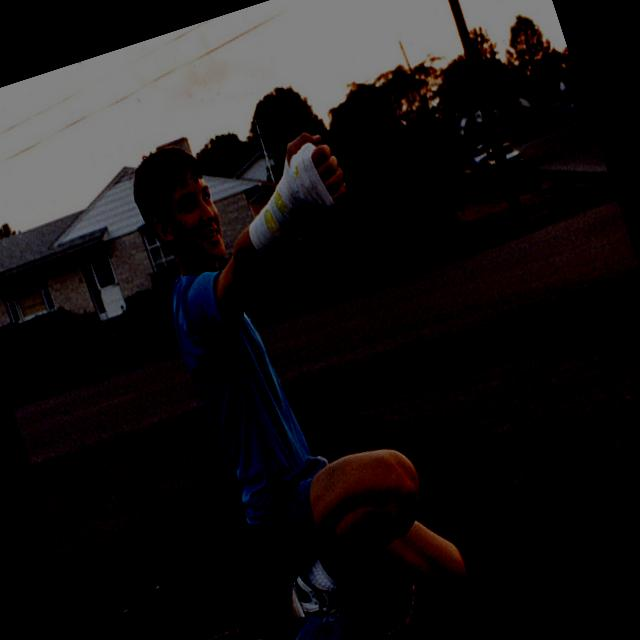Vehicle: (482, 138, 528, 181), (544, 96, 582, 128), (469, 142, 498, 176)
